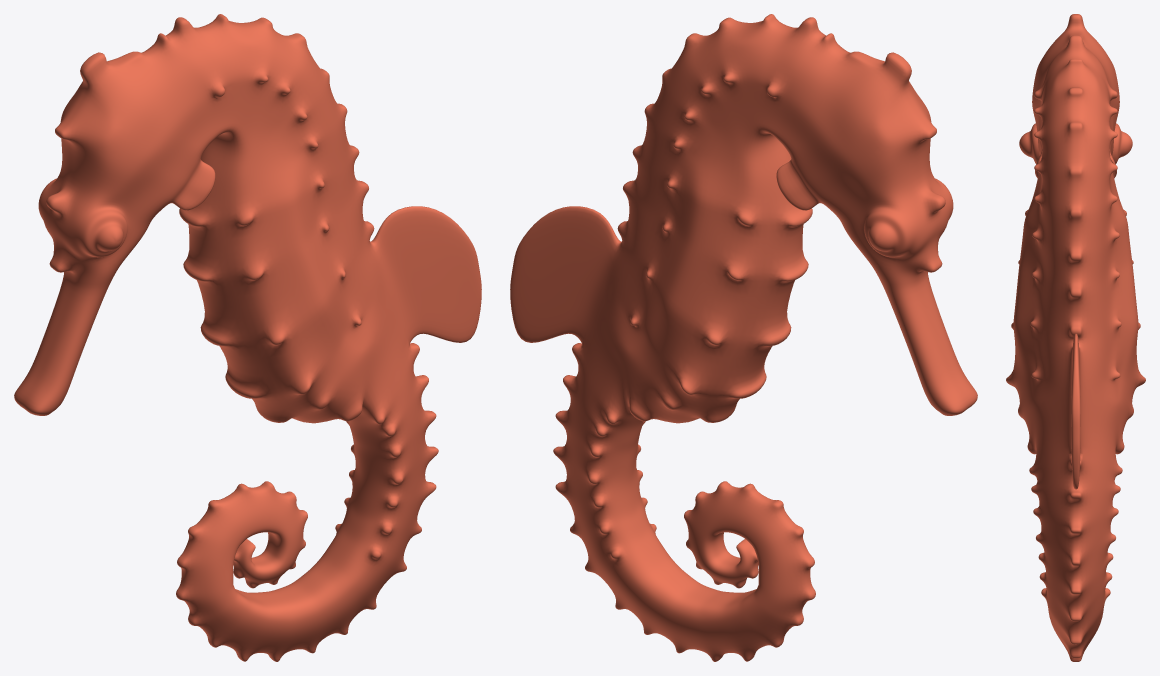
The model's file is Seahorse.fbx.
3 views of the same model, side by side, from view 1: azimuth 30°, elevation 25°; view 2: azimuth 150°, elevation 25°; view 3: azimuth 270°, elevation 25° (orthographic). The views are drawn at different scales.
Visible parts, largest first — view 1: Sphere; view 2: Sphere; view 3: Sphere.
Part boxes in pixels (x1,y1,x2,y2): Sphere: [14, 14, 481, 661]; Sphere: [510, 14, 977, 661]; Sphere: [1006, 14, 1145, 661].
Size of the model in its own units: 380 by 527 by 118.
